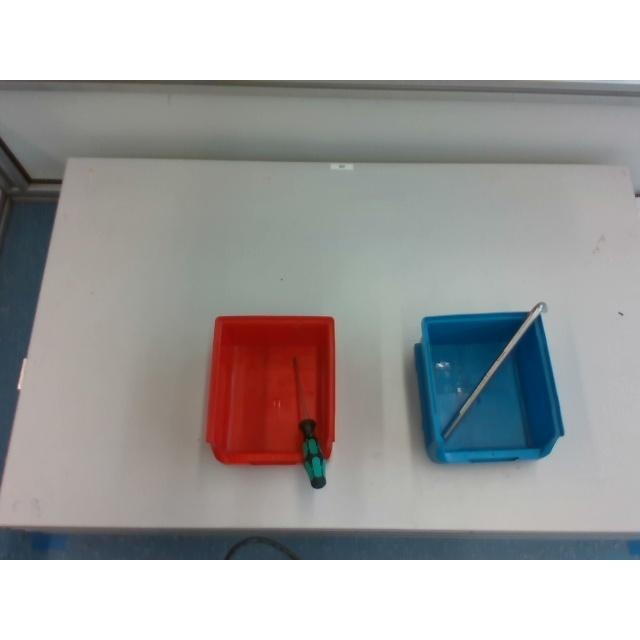AllenKey: (441, 301, 551, 444)
Screwdriver: (292, 357, 326, 488)
container_box_blue: (421, 310, 567, 466)
container_box_red: (206, 314, 336, 466)
